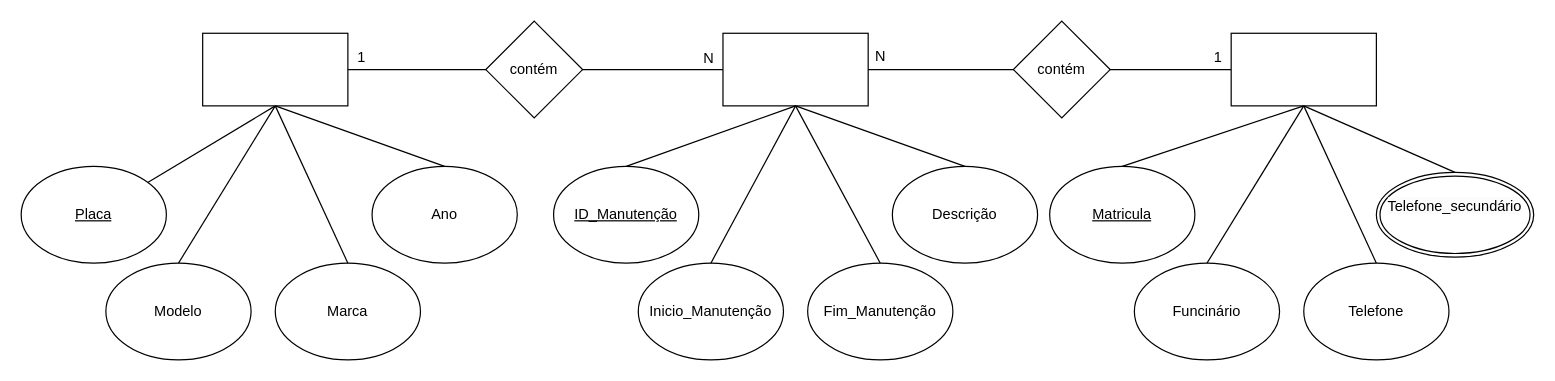
Image size: 1555x381. Some labels were removed from this diagram. The shapes that lost their labels are listed below. From the top down, each one's centre as x and y in pixels, then its label:
At point (274, 69): "CARRO".
At point (795, 69): "MANUTENÇÃO".
At point (1303, 69): "FUNCIONÁRIO".
